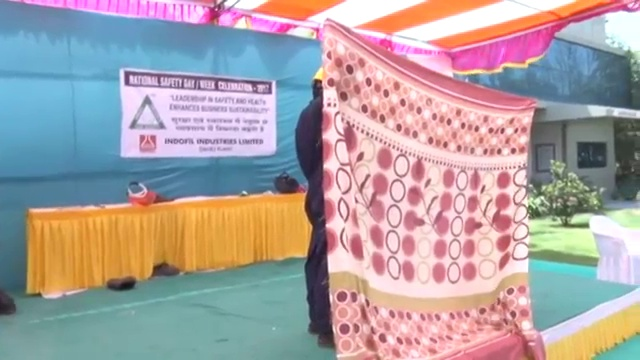person: (295, 65, 338, 350)
